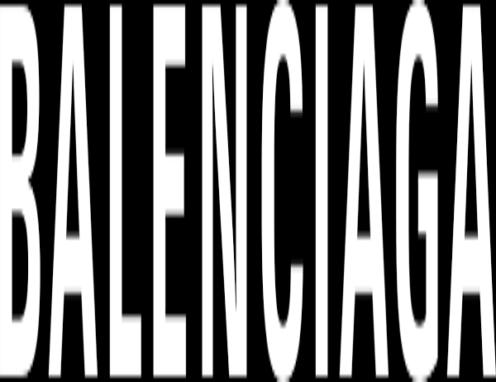BALENCIAGA: (0, 5, 496, 382)
